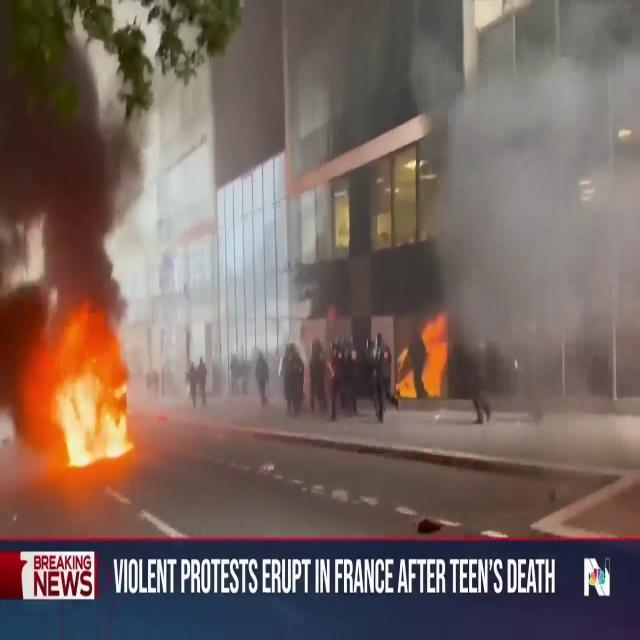Fire: (28, 305, 140, 472), (394, 304, 456, 406)
Smoke: (400, 1, 640, 355), (0, 1, 154, 322)
